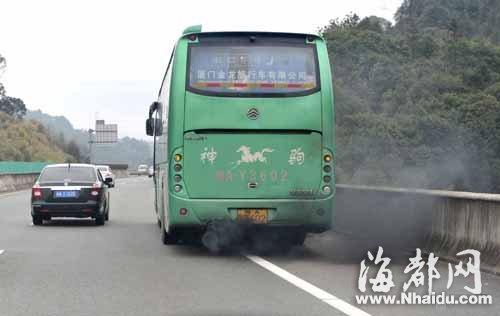smoke: (198, 217, 254, 257)
